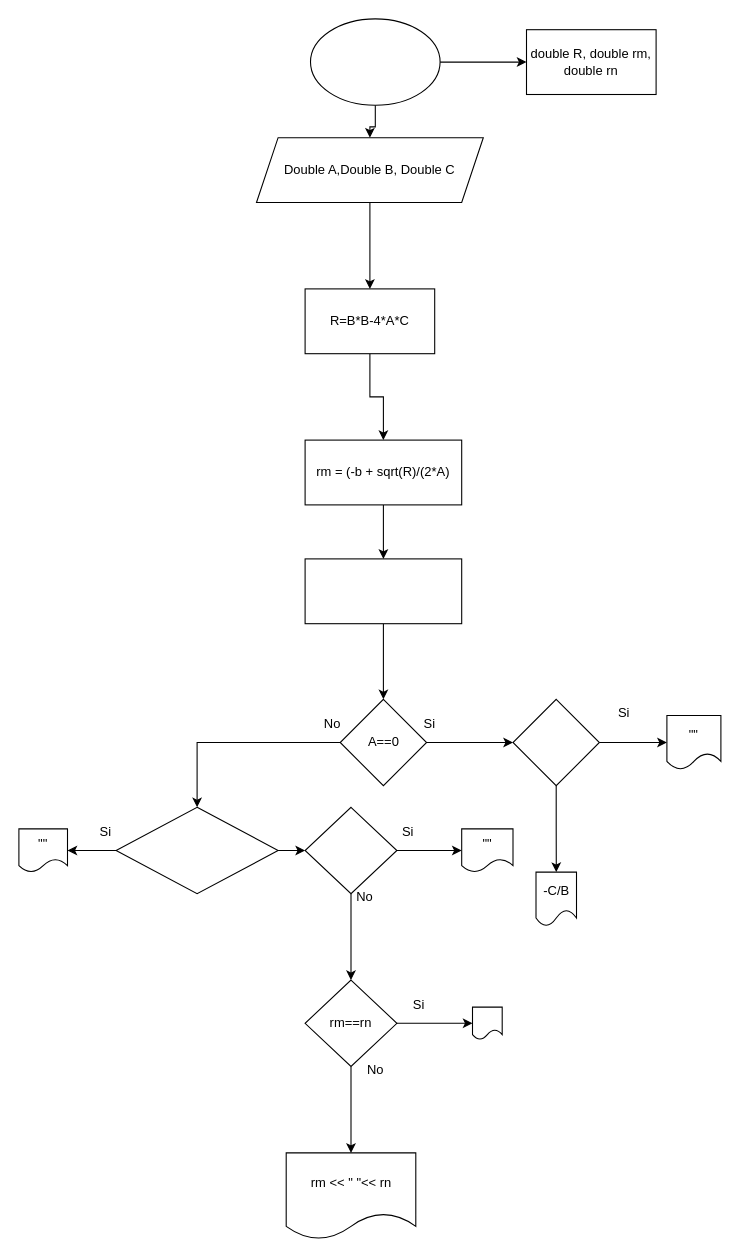
The diagram is 740 pixels wide and 1258 high, and some of its shapes have lost their labels. Each missing label, with the box of its shape:
B*B<4*A*C||2*A ==0: (115, 806, 278, 894)
B==0: (512, 698, 599, 786)
Ejercicio 1 Void Inicio: (309, 18, 440, 105)
R<0: (304, 806, 397, 894)
rn: (471, 1006, 502, 1040)
rn = (-b - sqrt(R)/(2*A): (304, 558, 462, 624)
